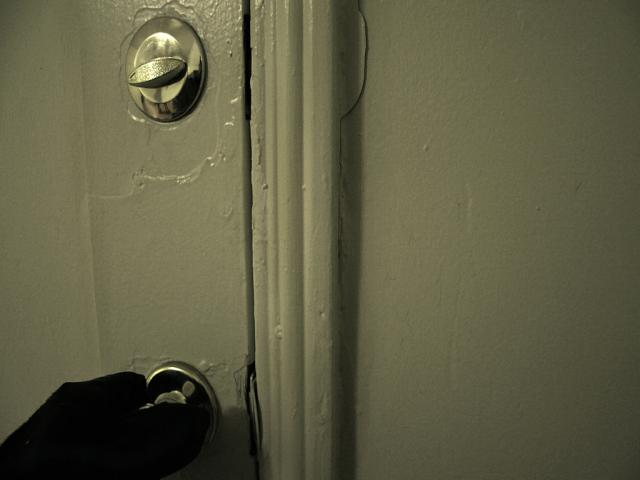Door-handle: (138, 359, 219, 457)
